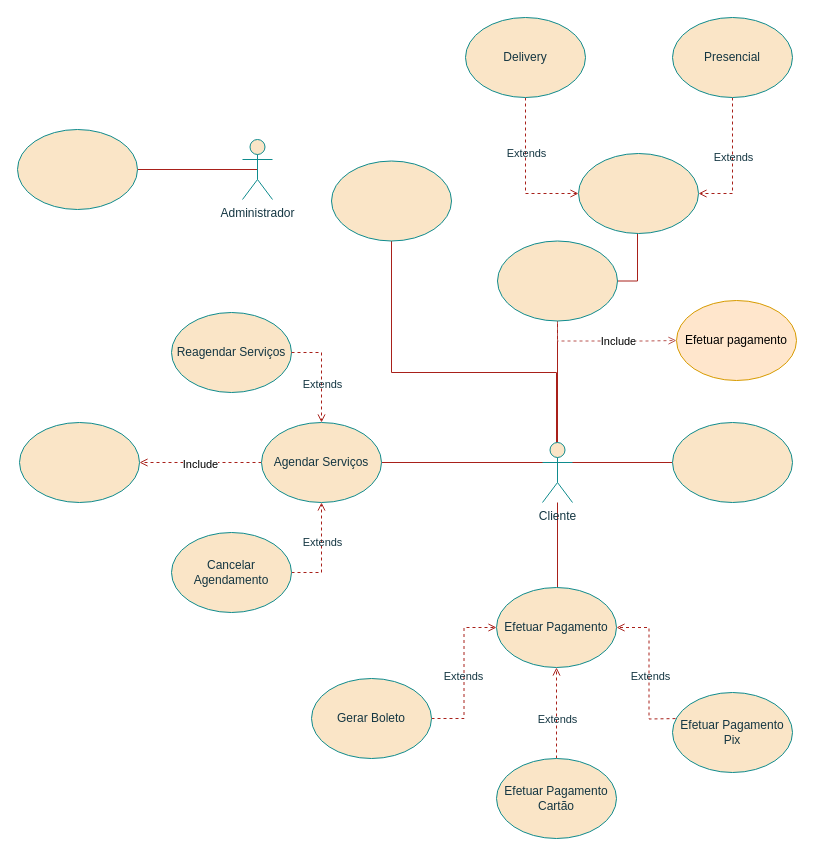
This 814x856 diagram has some shape labels left out. The shapes that lost their labels are listed below. From the top down, each one's box as (x1, y1, x2, y2) in pixels, then its label:
(16, 128, 138, 210): Manter Produto
(330, 160, 452, 241): Manter Pet
(578, 152, 698, 234): Retirar Produto
(496, 240, 618, 321): Realizar Pedidos
(18, 422, 140, 502): Notificar Cliente
(672, 422, 792, 502): Manter Usuario
